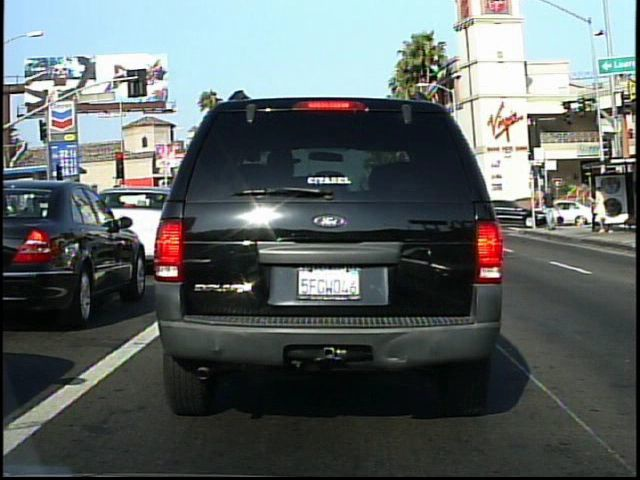person: (590, 183, 612, 235), (539, 184, 560, 234)
